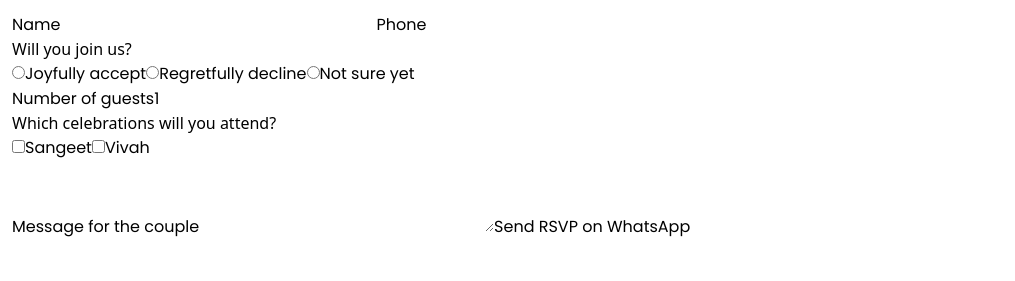
Test: <RsvpForm> › shows validation errors and does not open WhatsApp
Click the button "Send RSVP on WhatsApp": (592, 227) [494, 215, 690, 239]
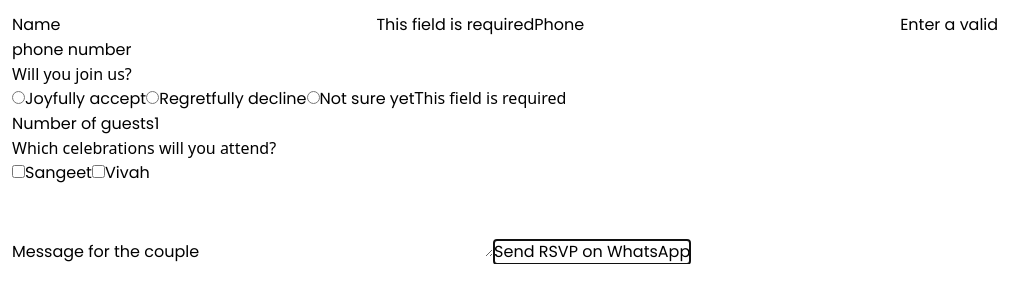
Check: the text "This field is required" is shown 2 times, box [376, 13, 534, 36]; [415, 87, 566, 109]
Check: the text "Enter a valid phone number" is shown, box [12, 13, 998, 61]
